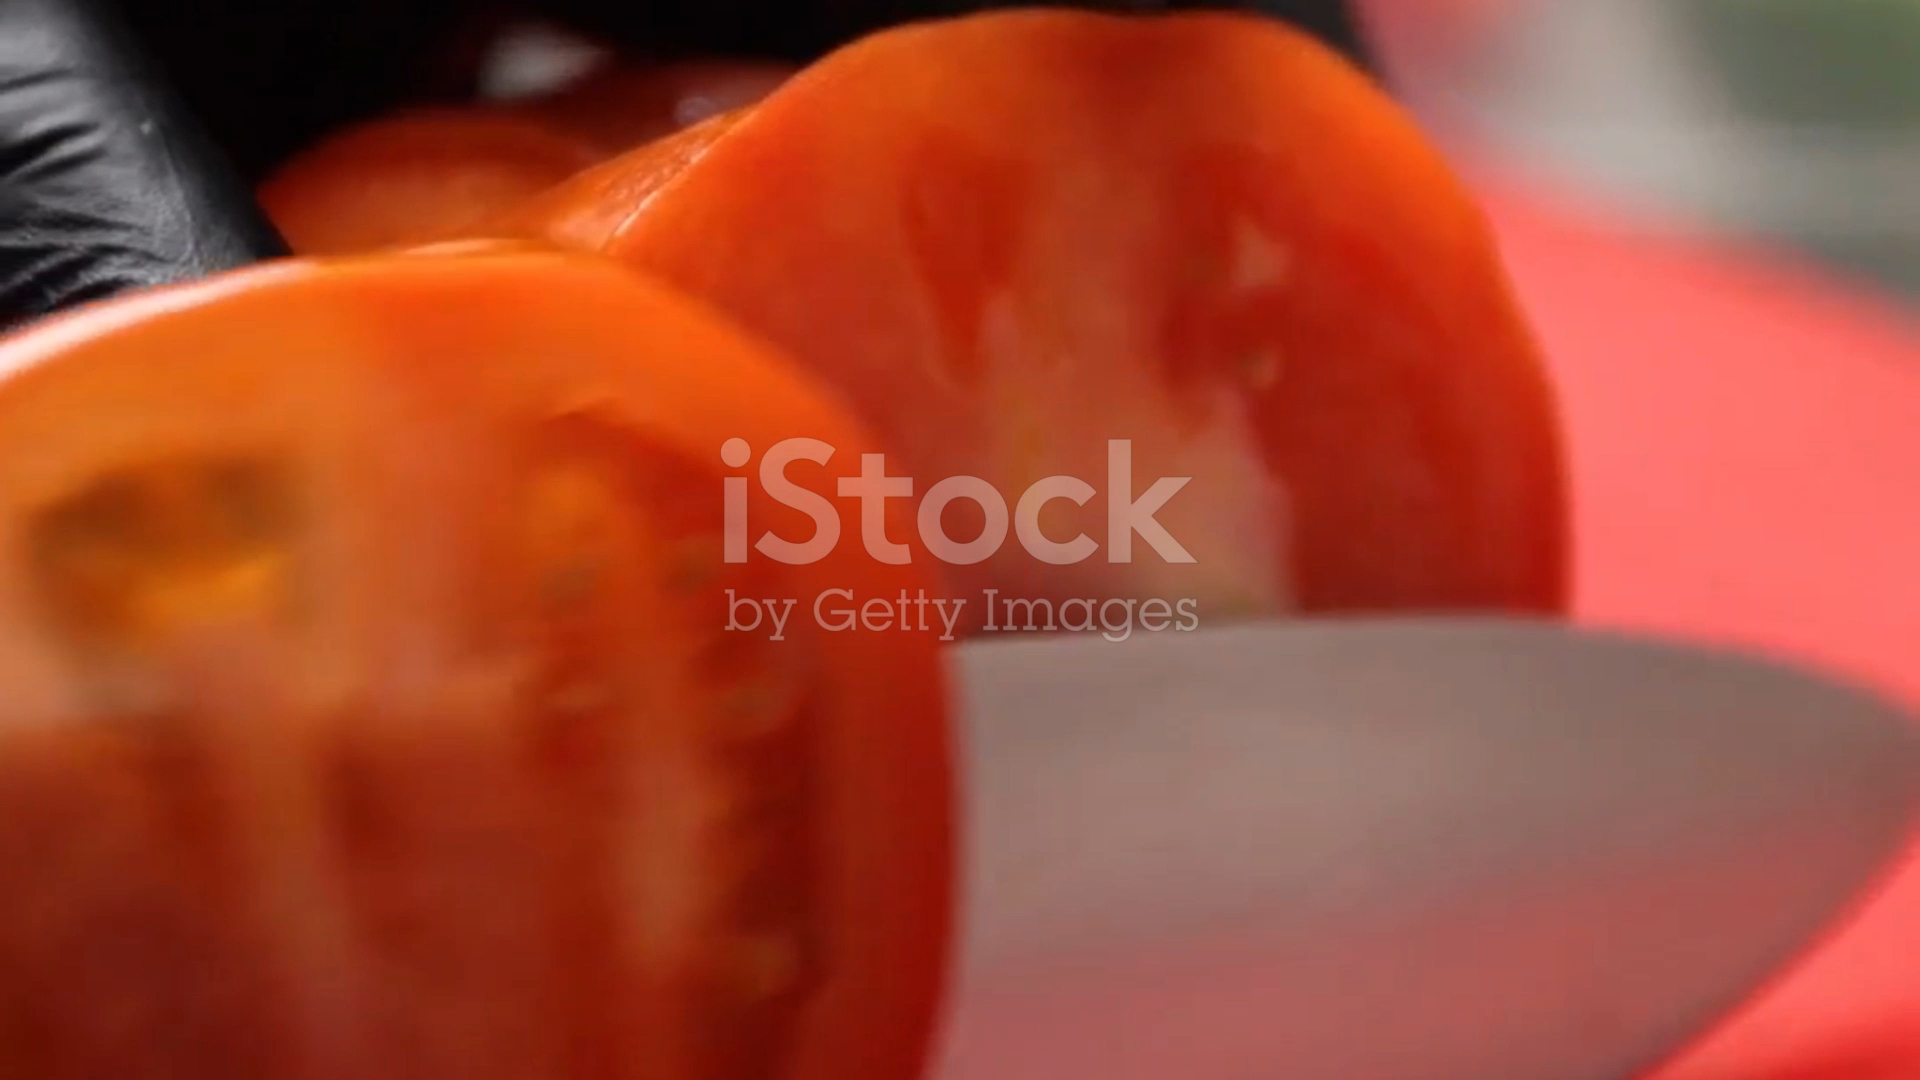cortante: (891, 632, 1920, 1080)
